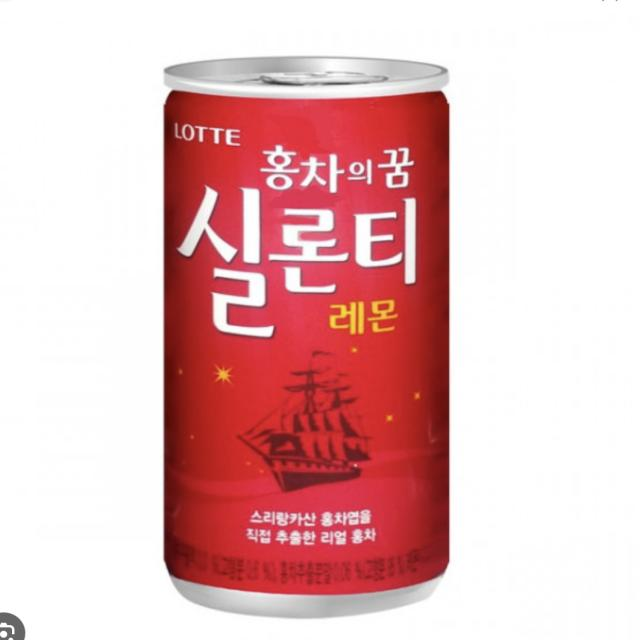recyclable: (140, 48, 469, 625)
